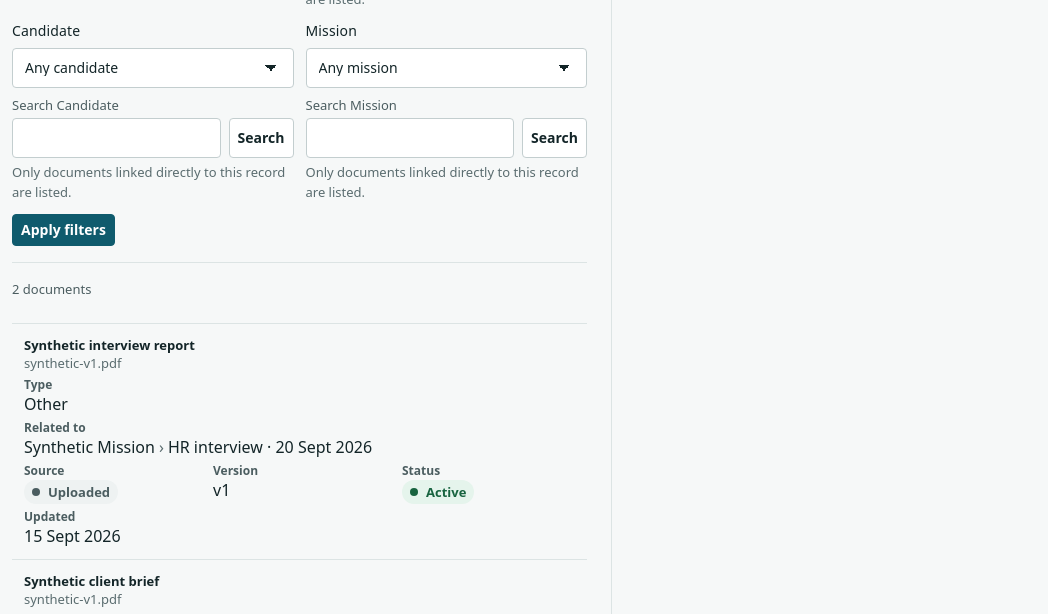
Test case: DocumentsPanel presentation › keeps a hidden candidate hidden and shows a missing document as unavailable
(page scrolled)
Click the button "Synthetic interview report" at x=109, y=345, box [24,336,195,354]
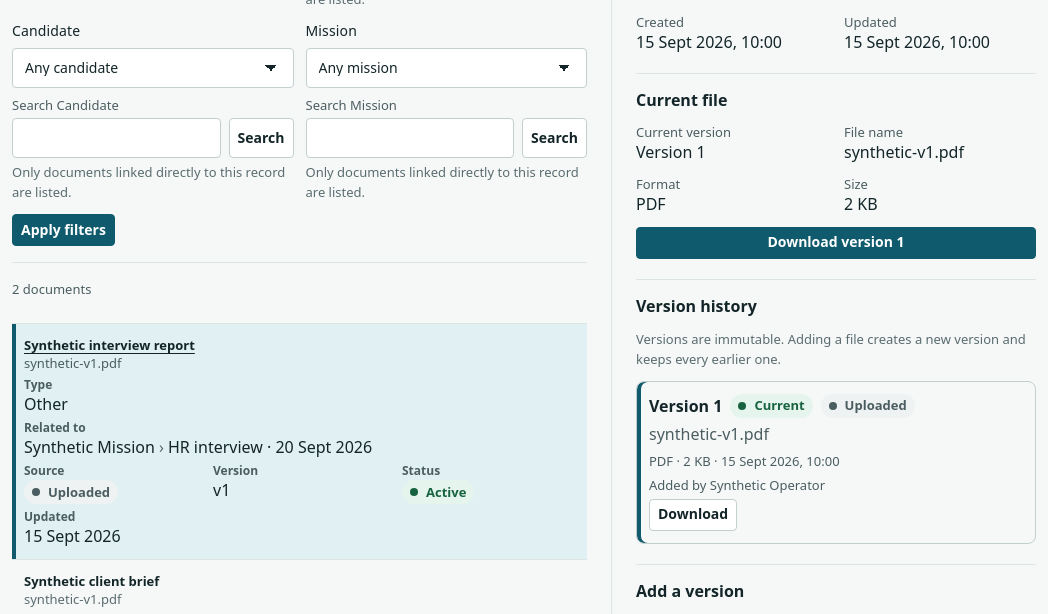
Click the button "Synthetic client brief" at x=92, y=581, box [24,572,159,590]
(page scrolled)
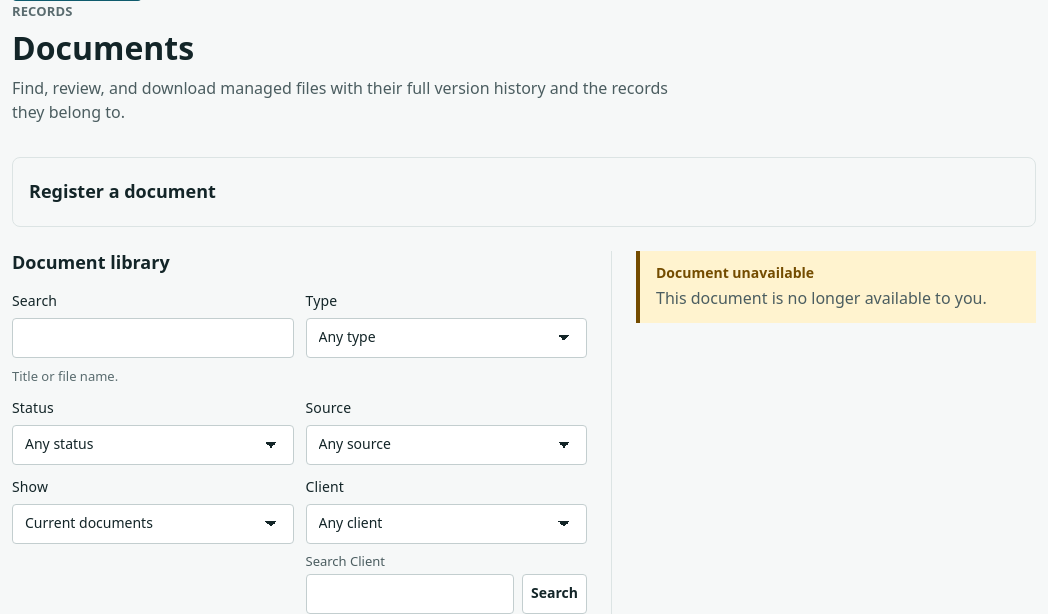
Expected: the heading "Synthetic client brief" is not shown
Expected: the text "This document is no longer available to you." is shown, [656,286,1020,311]
